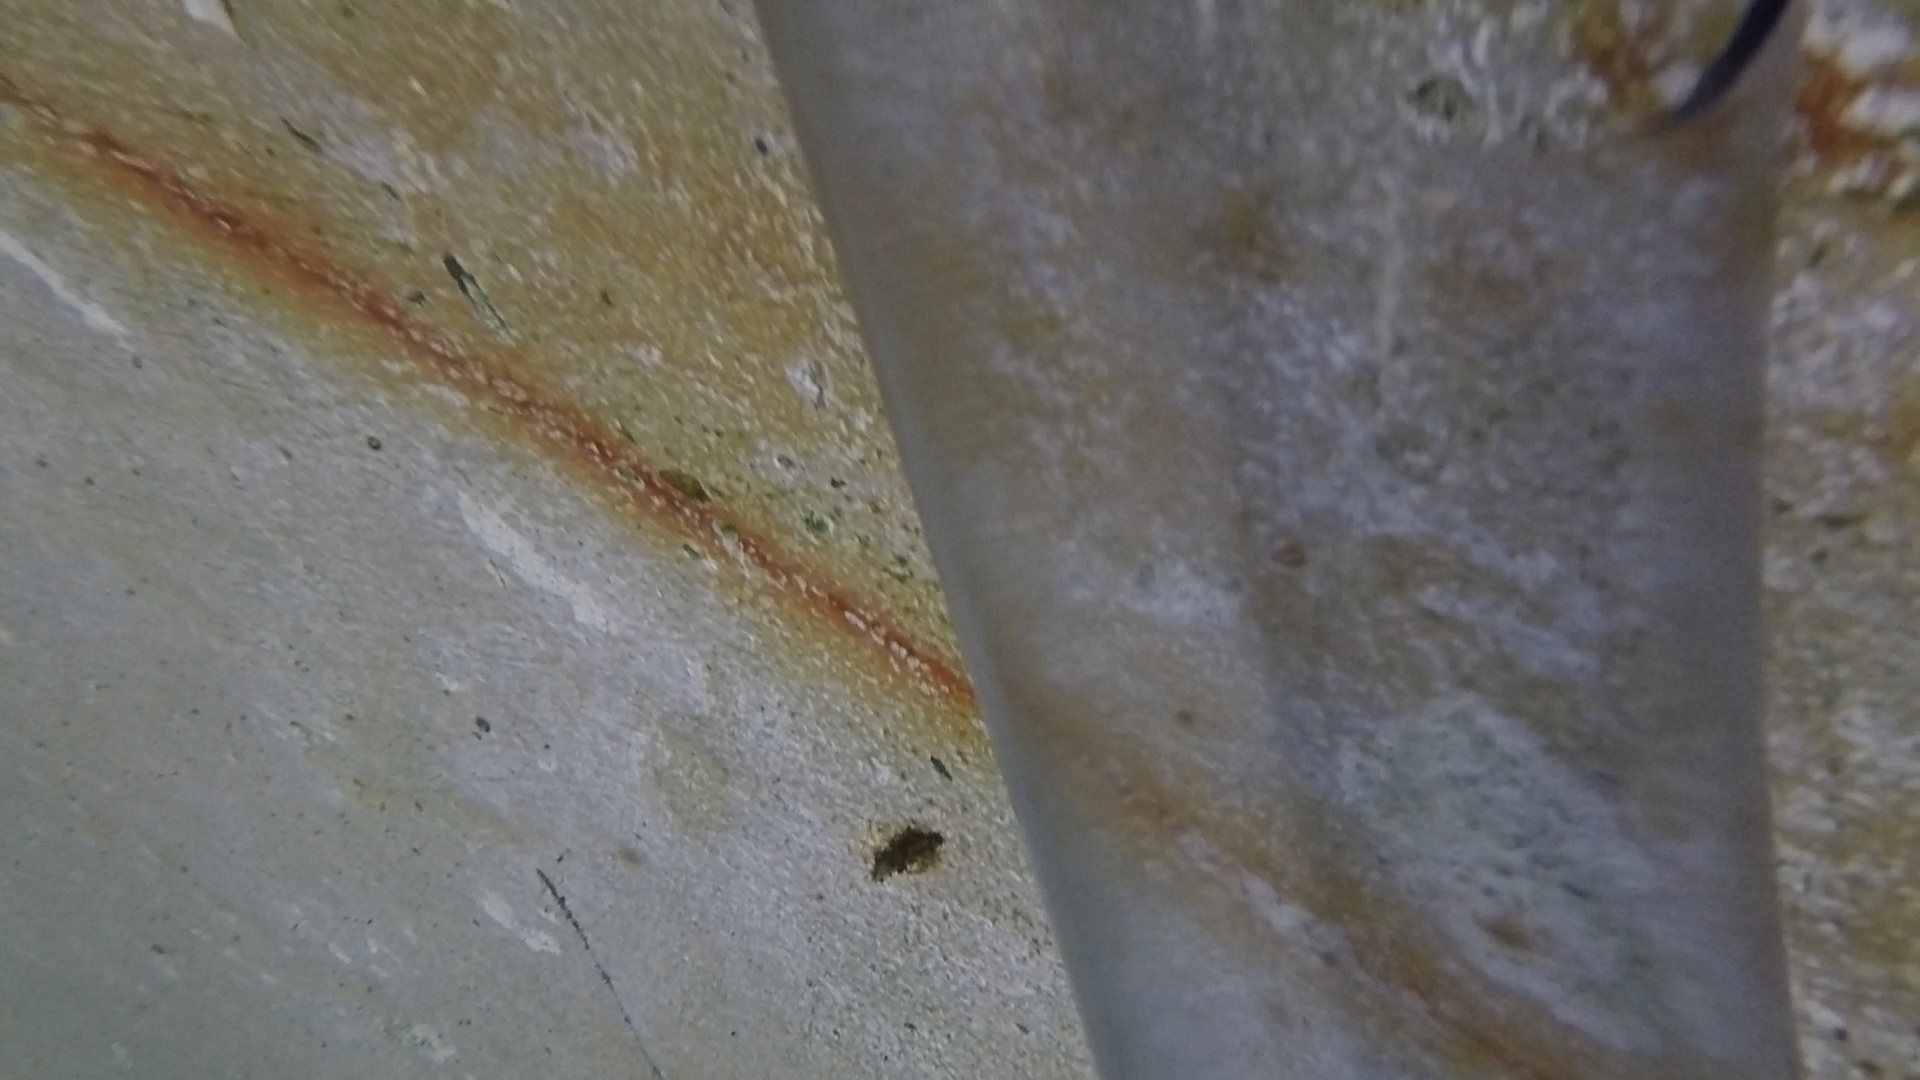pipe: (752, 1, 1807, 1079)
